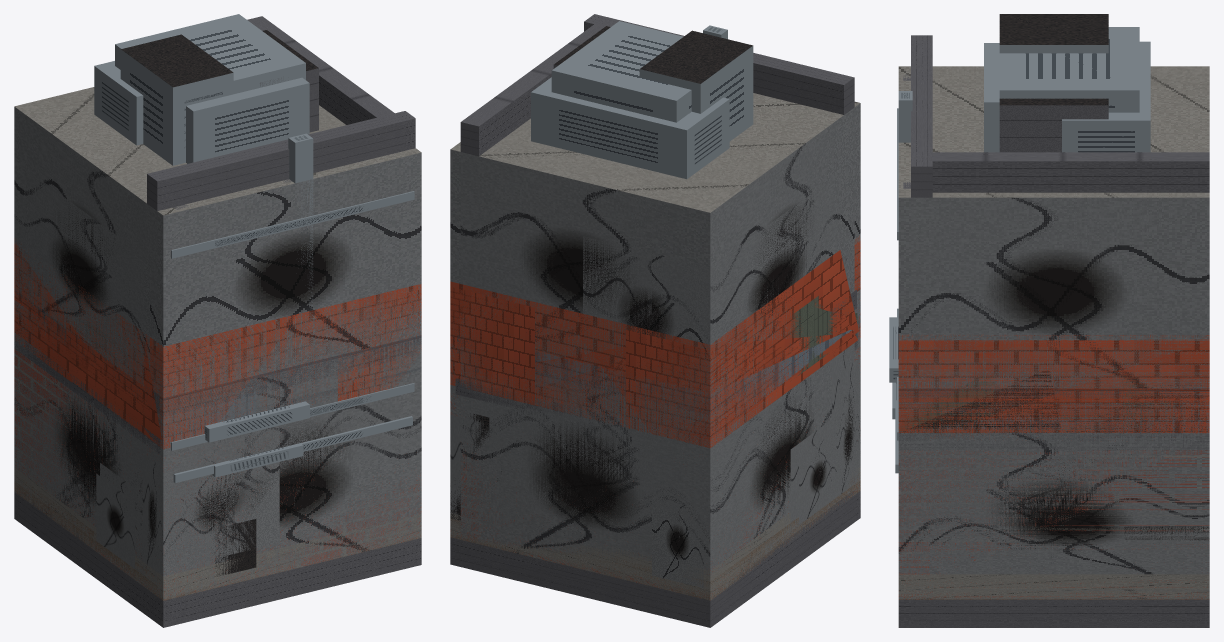
The model's file is buildings.glb.
The picture shows the model from 3 angles, left to right: view 1: azimuth 30°, elevation 25°; view 2: azimuth 150°, elevation 25°; view 3: azimuth 270°, elevation 25°; orthographic projection. The views are drawn at different scales.
Parts seen in each view (by area): view 1: house2_core_hp_5, house1_r0_core_hp_3, house2_core_hp_4, house2_corner_hp_5, house1_r0_core_hp_4, house1_core_hp_2, house2_corner_hp_4, house1_core_hp_1, house1_r0_corner_hp_4, house2_s9_core_hp_7, house2_edge_hp_5, house2_s0_core_hp_7 (+22 smaller); view 2: house2_core_hp_5, house2_corner_hp_5, house1_r0_core_hp_3, house1_r0_corner_hp_3, house2_core_hp_4, house1_r0_corner_hp_4, house2_corner_hp_4, house1_core_hp_1, house1_r0_core_hp_4, house2_s11_core_hp_7, house2_s8_core_hp_7, house2_s9_core_hp_7 (+15 smaller); view 3: house2_core_hp_5, house1_r0_core_hp_4, house1_core_hp_2, house2_edge_hp_5, house2_corner_hp_5, house1_r0_core_hp_3, house1_r0_edge_hp_4, house1_core_hp_1, house1_edge_hp_2, house2_s9_core_hp_7, house2_s8_core_hp_7, house1_s0_core_hp_5 (+14 smaller).
Boxes of the visible parts, <box> form: house2_core_hp_5: <box>14,87,421,527</box>; house1_r0_core_hp_3: <box>14,244,421,599</box>; house2_core_hp_4: <box>14,166,421,535</box>; house2_corner_hp_5: <box>14,16,405,510</box>; house1_r0_core_hp_4: <box>14,239,421,600</box>; house1_core_hp_2: <box>14,447,421,599</box>; house2_corner_hp_4: <box>14,165,144,519</box>; house1_core_hp_1: <box>14,481,421,627</box>; house1_r0_corner_hp_4: <box>14,252,161,591</box>; house2_s9_core_hp_7: <box>120,30,318,165</box>; house2_edge_hp_5: <box>16,88,415,210</box>; house2_s0_core_hp_7: <box>186,77,309,163</box>; house2_core_hp_5: <box>450,93,860,589</box>; house2_corner_hp_5: <box>457,16,856,569</box>; house1_r0_core_hp_3: <box>450,241,860,596</box>; house1_r0_corner_hp_3: <box>460,313,857,598</box>; house2_core_hp_4: <box>519,185,860,569</box>; house1_r0_corner_hp_4: <box>461,250,858,596</box>; house2_corner_hp_4: <box>461,173,854,580</box>; house1_core_hp_1: <box>450,394,860,627</box>; house1_r0_core_hp_4: <box>450,236,860,598</box>; house2_s11_core_hp_7: <box>531,77,729,179</box>; house2_s8_core_hp_7: <box>551,21,691,122</box>; house2_s9_core_hp_7: <box>553,26,753,141</box>; house2_core_hp_5: <box>898,66,1209,478</box>; house1_r0_core_hp_4: <box>898,334,1209,597</box>; house1_core_hp_2: <box>898,473,1209,599</box>; house2_edge_hp_5: <box>907,35,1209,467</box>; house2_corner_hp_5: <box>911,35,1209,192</box>; house1_r0_core_hp_3: <box>898,340,1209,598</box>; house1_r0_edge_hp_4: <box>906,335,1209,597</box>; house1_core_hp_1: <box>898,526,1209,627</box>; house1_edge_hp_2: <box>911,473,1209,599</box>; house2_s9_core_hp_7: <box>999,14,1108,152</box>; house2_s8_core_hp_7: <box>999,27,1139,112</box>; house1_s0_core_hp_5: <box>898,433,1209,599</box>.
Bounding box in the file's own units: 2 × 3.66 × 2.06.
1 material, 1 textured.
